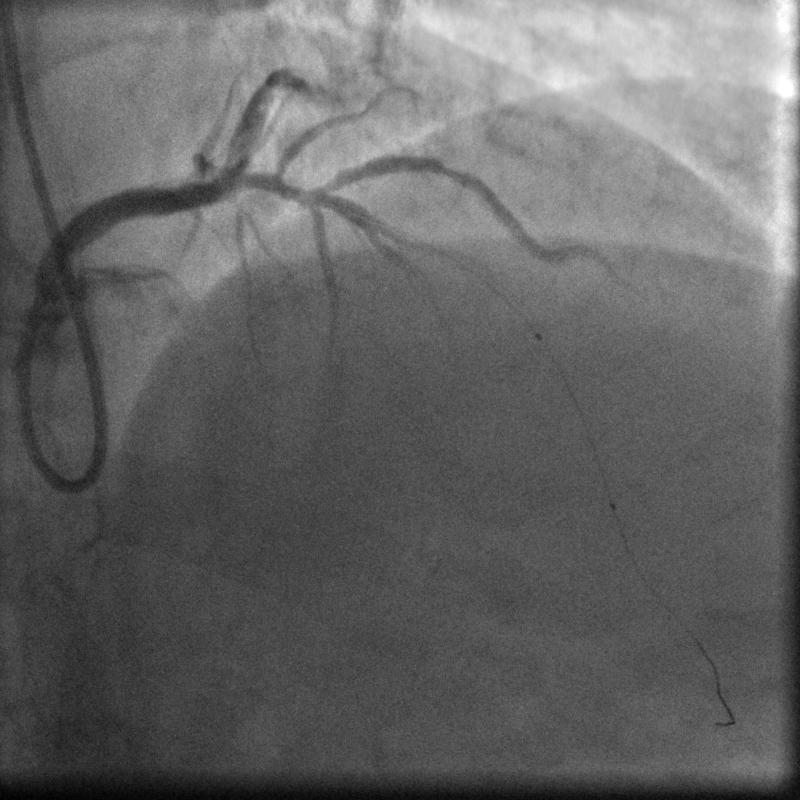Stenosis: (430, 146, 476, 192)
